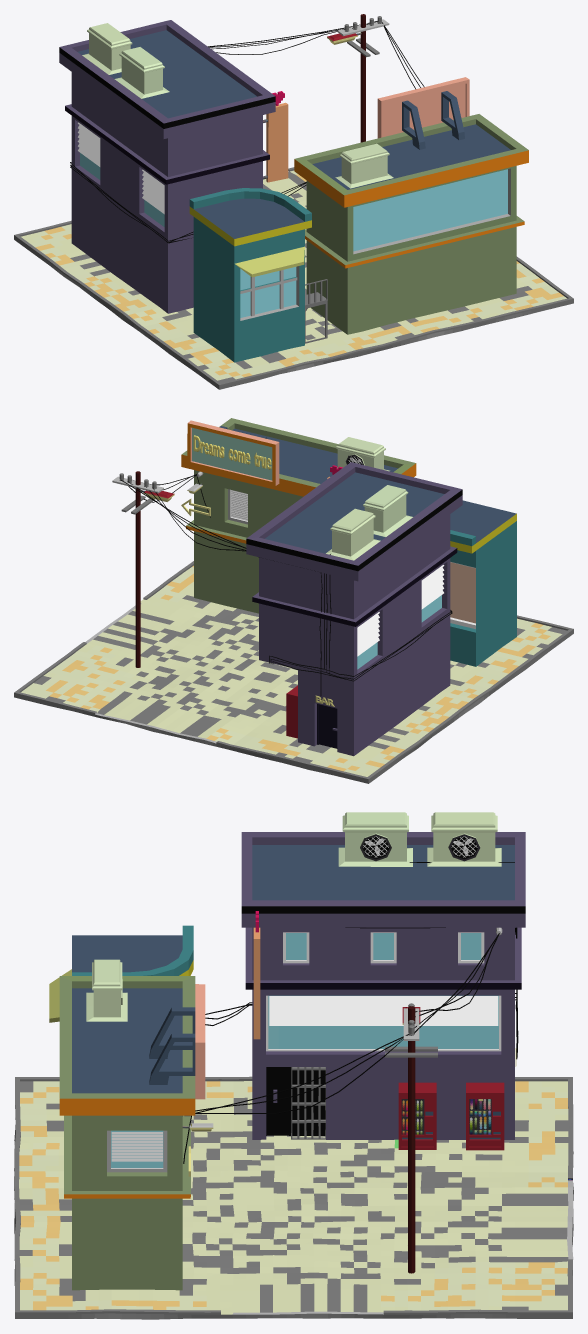
The model's file is Bank.fbx.
The picture shows the model from 3 angles, top to bottom: view 1: azimuth 30°, elevation 25°; view 2: azimuth 150°, elevation 25°; view 3: azimuth 270°, elevation 25°; orthographic projection. The views are drawn at different scales.
Parts seen in each view (by area): view 1: Bank, Fan, Cables, lamppost; view 2: Bank, Fan, Cables, lamppost; view 3: Bank, Fan, lamppost, Cables.
Part boxes in pixels (<box>): Bank: <box>14,20,573,389</box>; Fan: <box>82,23,393,188</box>; Cables: <box>70,21,424,243</box>; lamppost: <box>337,14,389,142</box>; Bank: <box>14,418,573,783</box>; Fan: <box>326,437,412,560</box>; Cables: <box>121,473,452,695</box>; lamppost: <box>112,471,163,667</box>; Bank: <box>14,832,573,1319</box>; Fan: <box>86,812,501,1021</box>; lamppost: <box>385,1003,437,1273</box>; Cables: <box>183,862,518,1163</box>.
Size of what is drawn, in the model's own units: 11.14 by 6.67 by 11.15.
